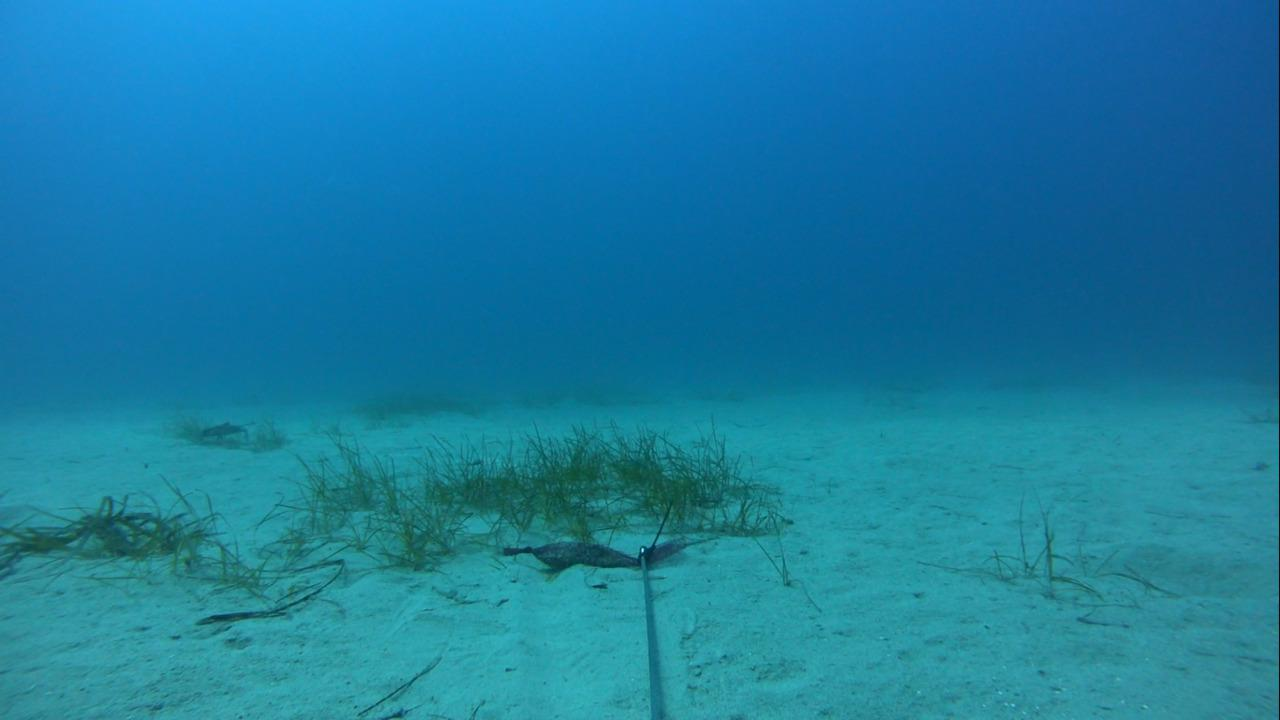dactylopterus: (186, 412, 272, 451)
